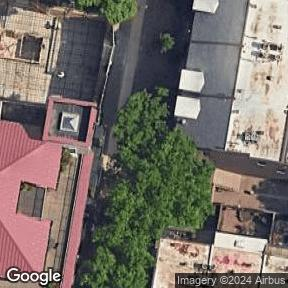vegetation: (80, 78, 234, 288), (161, 33, 176, 54)
